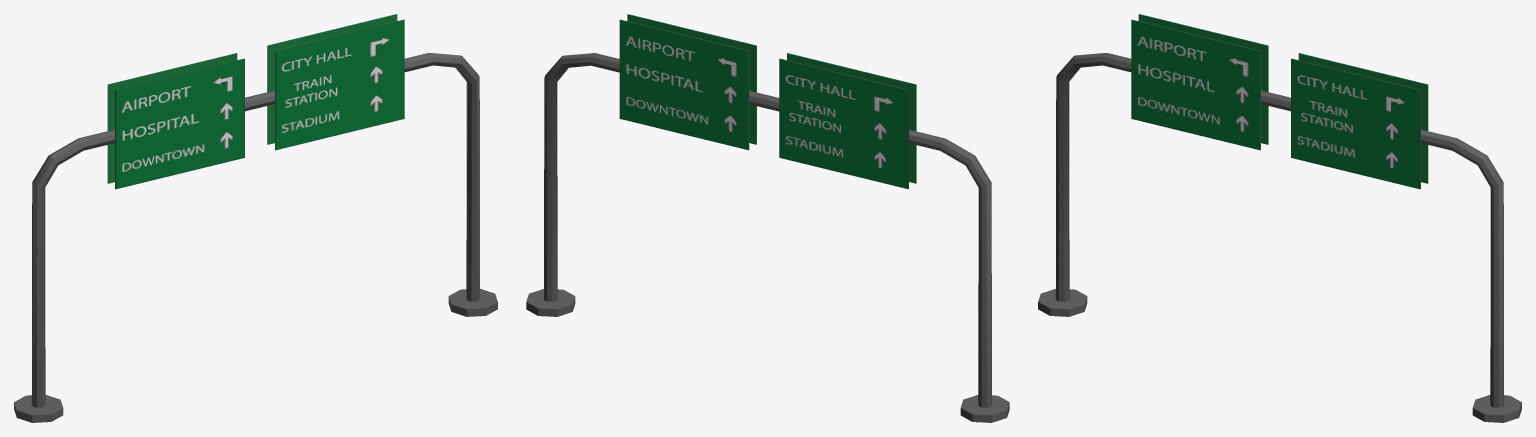
The model's file is road-sign-double(two-lane-road).fbx.
The picture shows the model from 3 angles, left to right: view 1: azimuth 30°, elevation 25°; view 2: azimuth 150°, elevation 25°; view 3: azimuth 330°, elevation 25°; orthographic projection.
Parts seen in each view (by area): view 1: 2. road-sign-double(two-lane-road); view 2: 2. road-sign-double(two-lane-road); view 3: 2. road-sign-double(two-lane-road).
Part boxes in pixels (bbox=[...]): 2. road-sign-double(two-lane-road): bbox=[14, 14, 497, 422]; 2. road-sign-double(two-lane-road): bbox=[526, 14, 1009, 422]; 2. road-sign-double(two-lane-road): bbox=[1038, 14, 1521, 422].
Bounding box in the file's own units: 10.58 × 6.5 × 0.9813.
